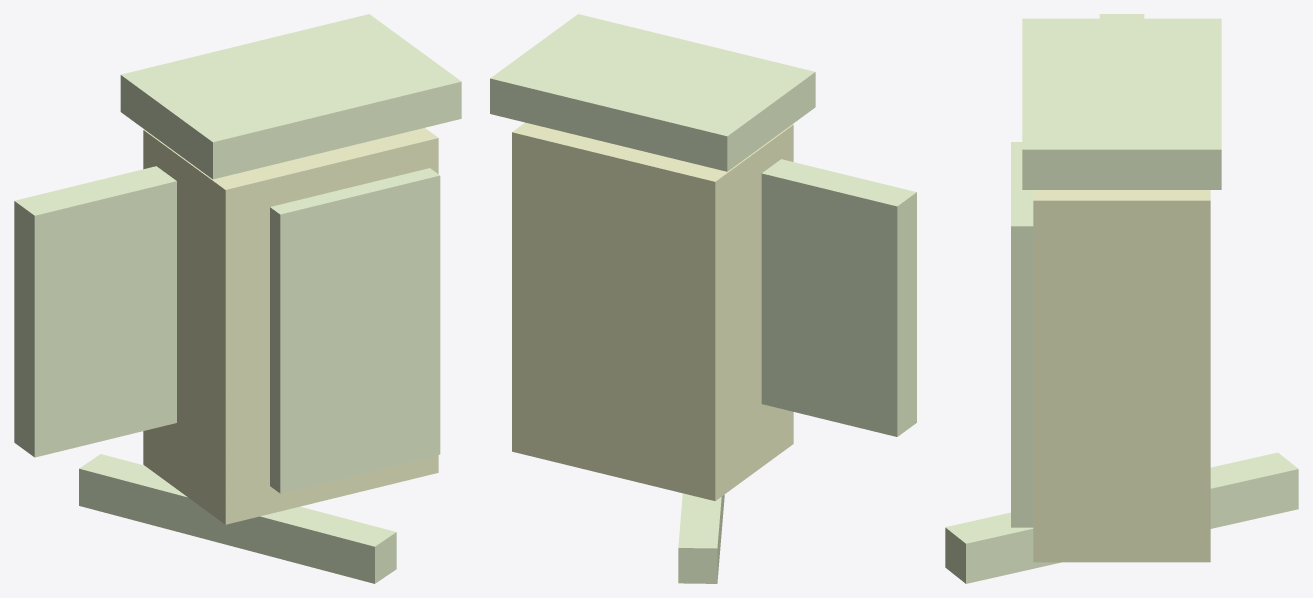
The model's file is furniture_signal_cantilever_slim_controller_box.glb.
3 views of the same model, side by side, from view 1: azimuth 30°, elevation 25°; view 2: azimuth 150°, elevation 25°; view 3: azimuth 270°, elevation 25° (orthographic). The views are drawn at different scales.
Visible parts, largest first — view 1: door_face, controller_body, clamp_plate, visor_lip, conduit_drop; view 2: controller_body, clamp_plate, visor_lip, conduit_drop; view 3: controller_body, visor_lip, conduit_drop, door_face.
Part boxes in pixels (bbox=[...]): door_face: bbox=[270, 168, 440, 493]; controller_body: bbox=[143, 128, 438, 524]; clamp_plate: bbox=[14, 166, 176, 457]; visor_lip: bbox=[120, 14, 461, 179]; conduit_drop: bbox=[79, 454, 396, 583]; controller_body: bbox=[512, 122, 793, 501]; clamp_plate: bbox=[761, 159, 916, 436]; visor_lip: bbox=[490, 14, 815, 171]; conduit_drop: bbox=[678, 493, 724, 583]; controller_body: bbox=[1033, 190, 1210, 562]; visor_lip: bbox=[1022, 18, 1221, 189]; conduit_drop: bbox=[945, 452, 1298, 583]; door_face: bbox=[1011, 142, 1033, 527].
Size of the model in its own units: 0.44 by 0.48 by 0.319.
